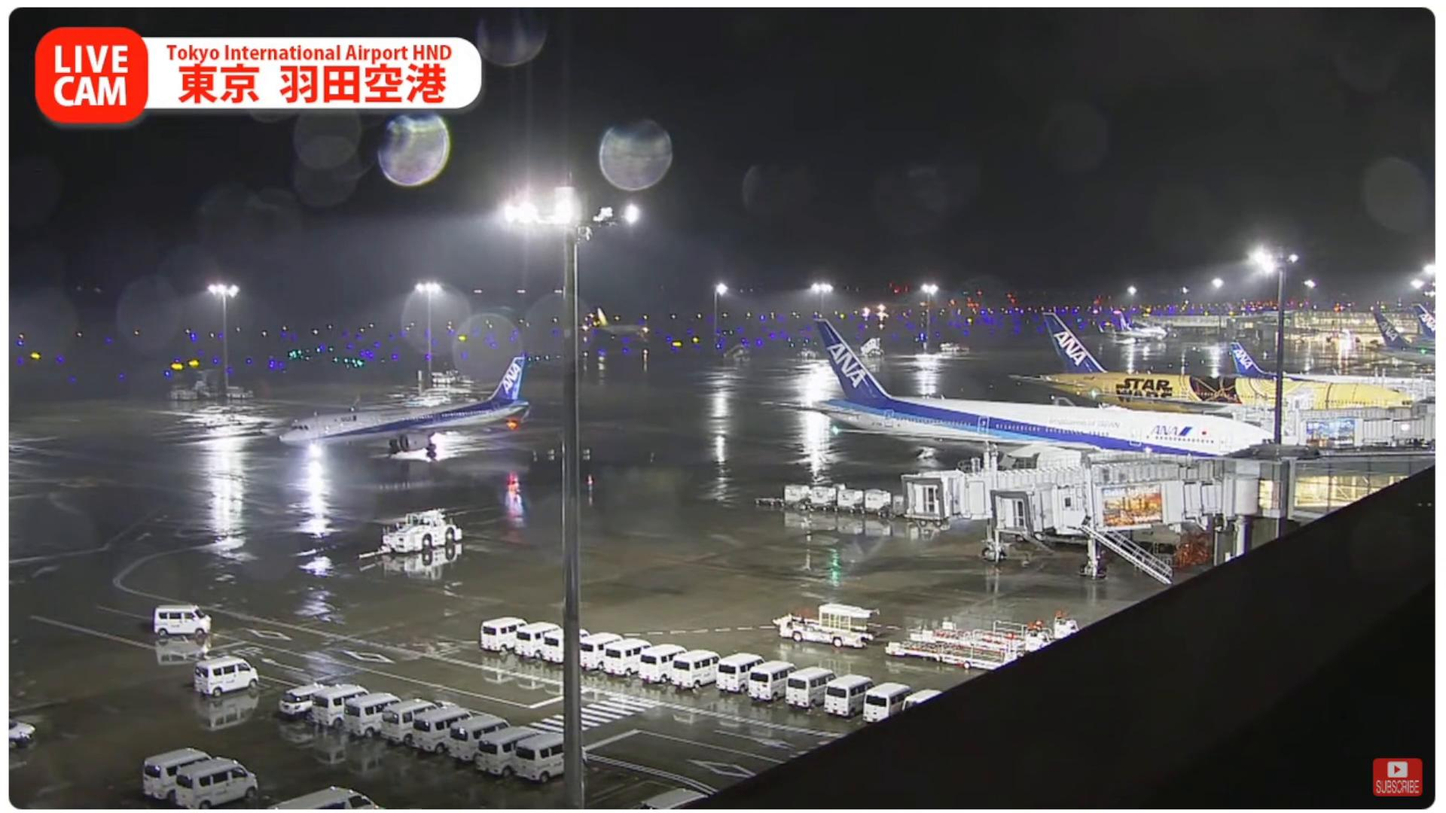APS: (380, 510, 462, 553)
Aerobridge: (898, 461, 1193, 525), (988, 473, 1227, 539)
Airplane: (302, 357, 538, 462)
Dolly: (781, 481, 899, 517)
JCPL: (914, 617, 1081, 654), (884, 636, 1033, 667)
Skyloader: (771, 602, 883, 649)
Window: (1289, 476, 1414, 509)
